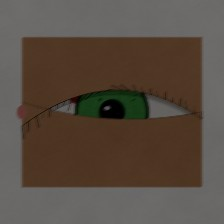hemorrhage_spot: (55, 56, 156, 137)
